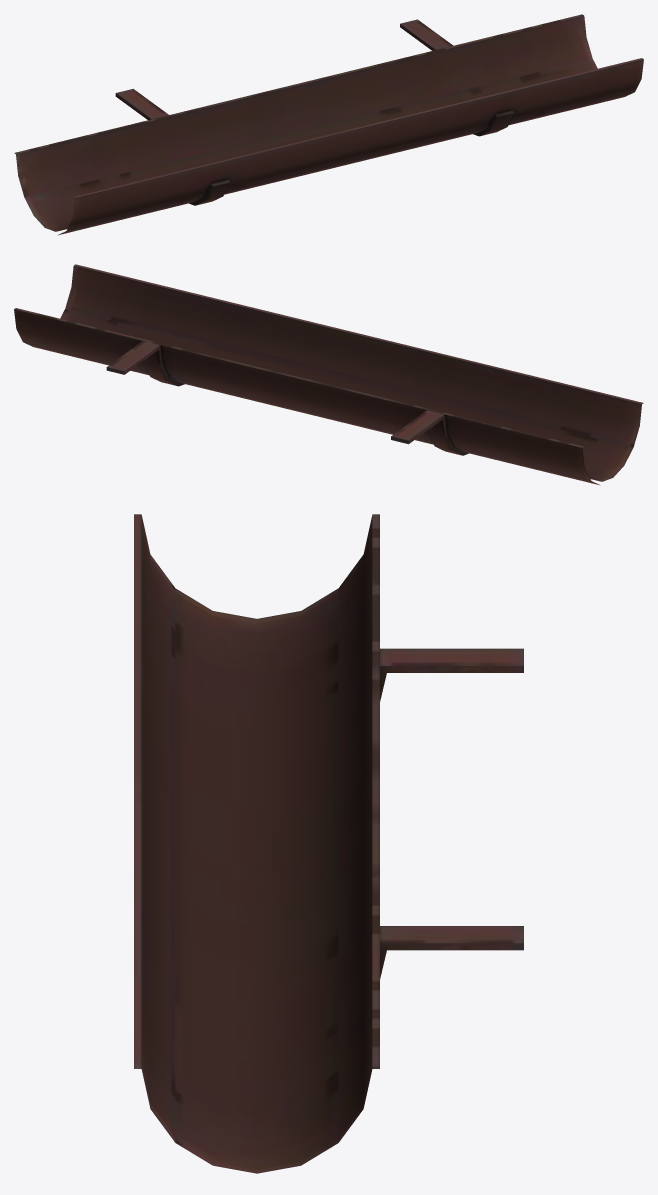
The picture shows the model from 3 angles, top to bottom: view 1: azimuth 30°, elevation 25°; view 2: azimuth 150°, elevation 25°; view 3: azimuth 270°, elevation 25°; orthographic projection. The views are drawn at different scales.
Parts seen in each view (by area): view 1: body0_model0_lod0_mesh0; view 2: body0_model0_lod0_mesh0; view 3: body0_model0_lod0_mesh0.
Boxes of the visible parts, x1,y1,x2,y2 form: body0_model0_lod0_mesh0: [14, 14, 643, 235]; body0_model0_lod0_mesh0: [14, 264, 643, 485]; body0_model0_lod0_mesh0: [134, 514, 523, 1173].
Bounding box in the file's own units: 128 × 12.75 × 38.04.
1 material, 1 textured.
